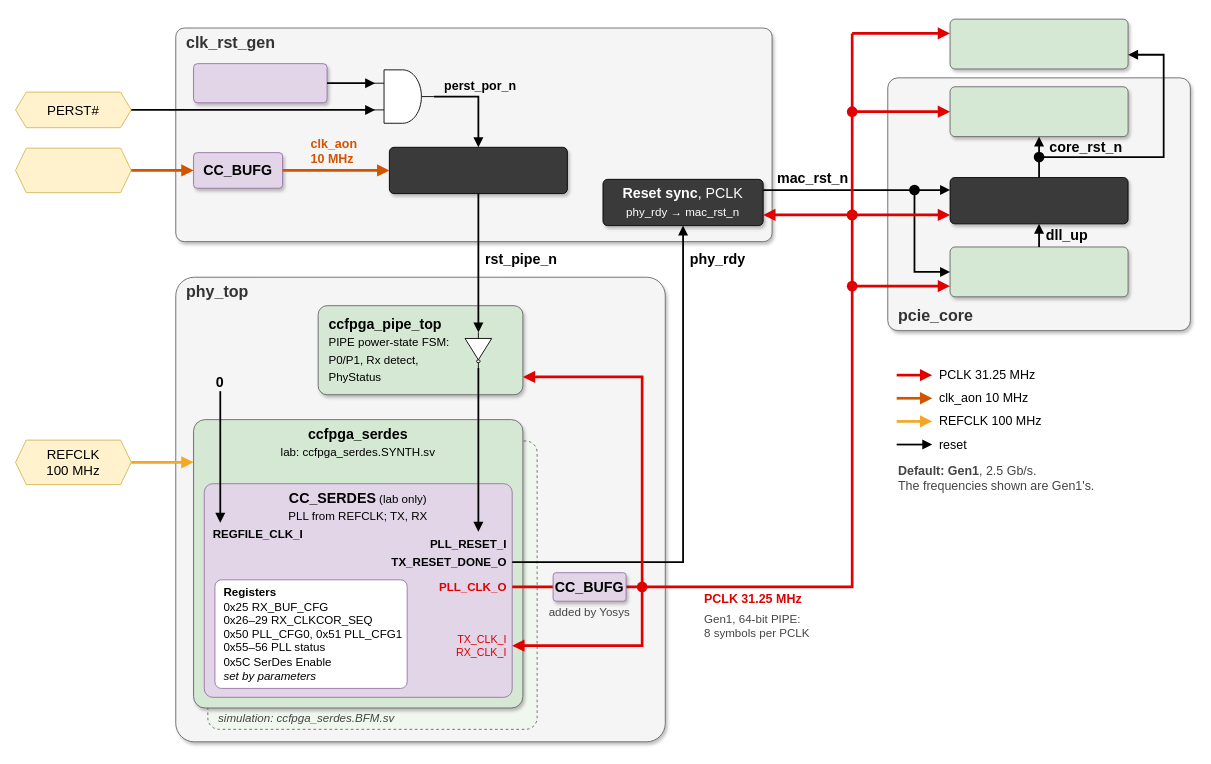
The diagram is 1211 pixels wide and 764 high, and some of its shapes have lost their labels. The centre of each missing label's shape, as x and y in pixels:
"board clock 10 MHz" belongs at [73,170].
"CC_USR_RSTN end of configuration" belongs at [260,84].
"Flop , PCLK dll_up → core_rst_n" belongs at [1039,201].
"MAC/LTSSM, DLL, TL PCLK, mac_rst_n" belongs at [1039,273].
"Reset sync , clk_aon perst_por_n → rst_pipe_n" belongs at [479,171].
"riscv_pcie_soc PCLK, core_rst_n" belongs at [1039,45].
"trn_bridge PCLK, core_rst_n" belongs at [1039,112].
